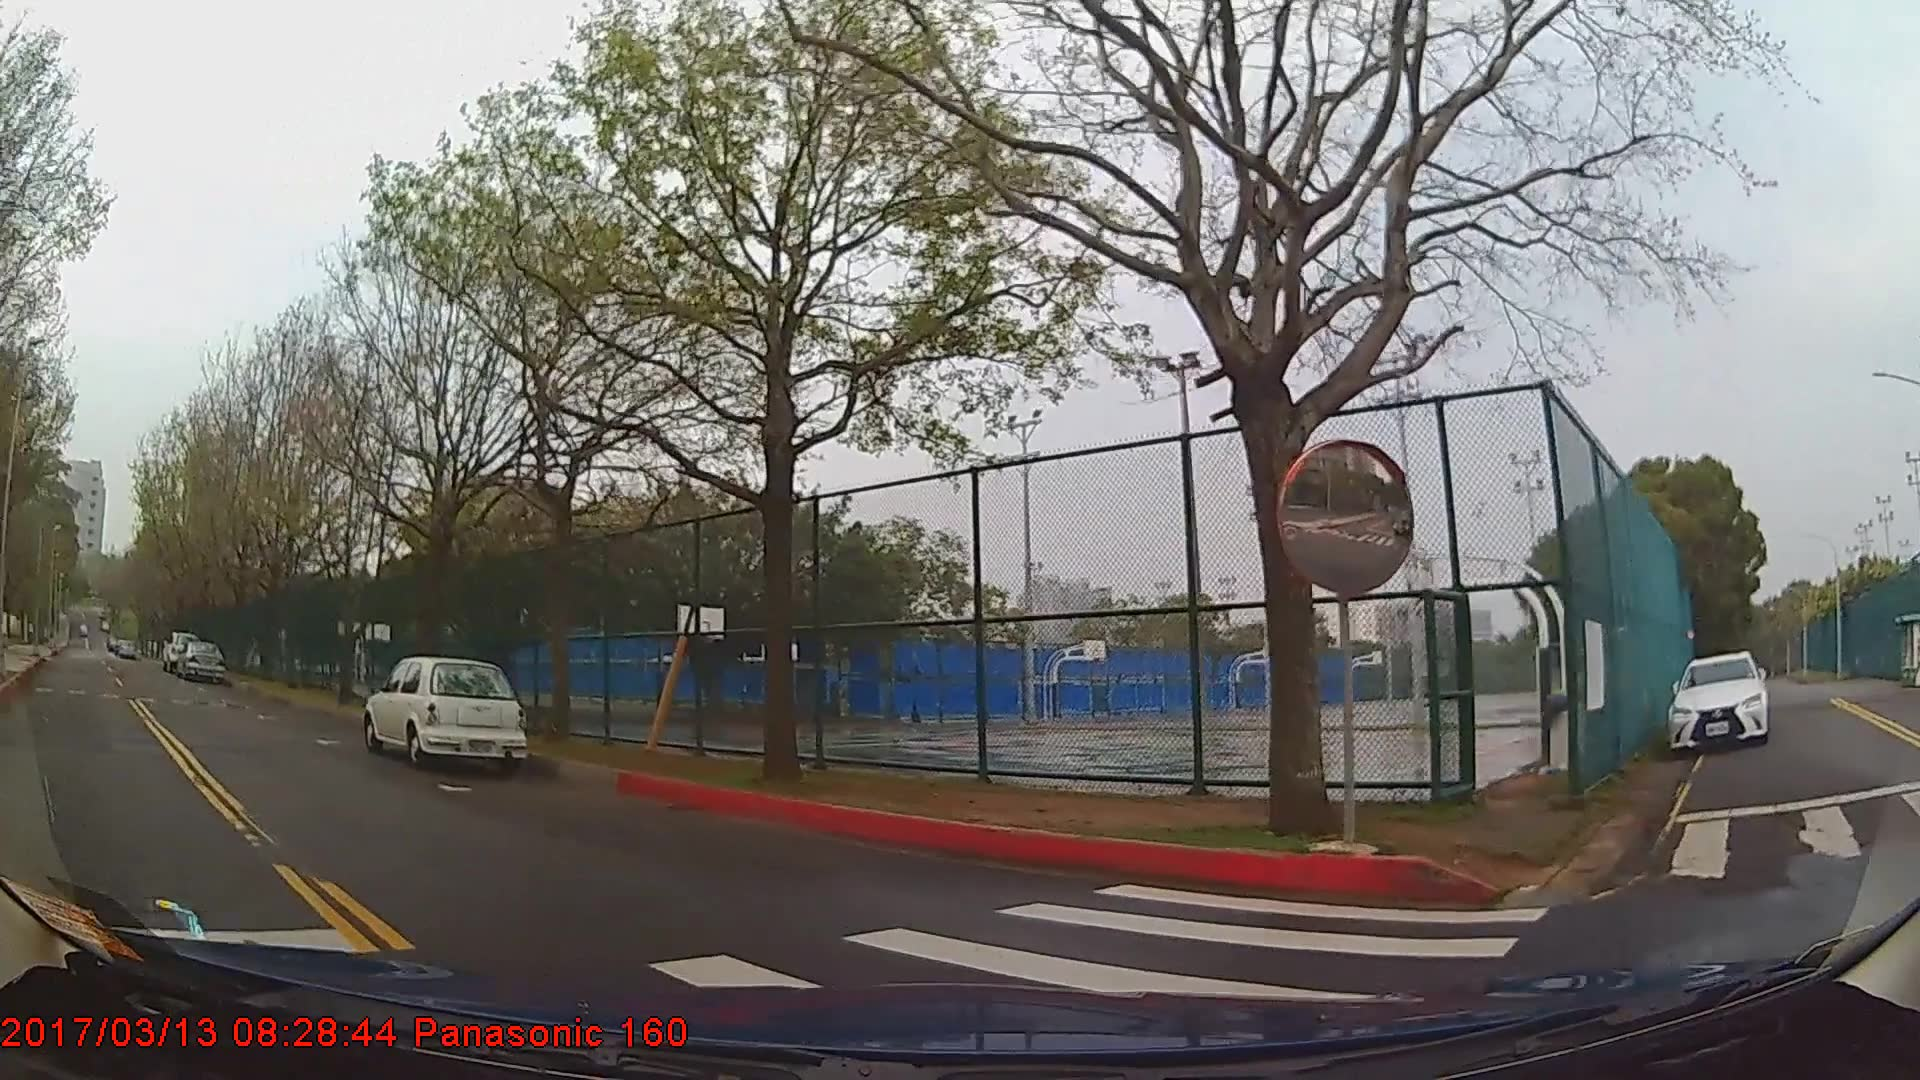vehicle: (364, 657, 527, 766), (1665, 651, 1767, 753), (177, 637, 225, 680)
